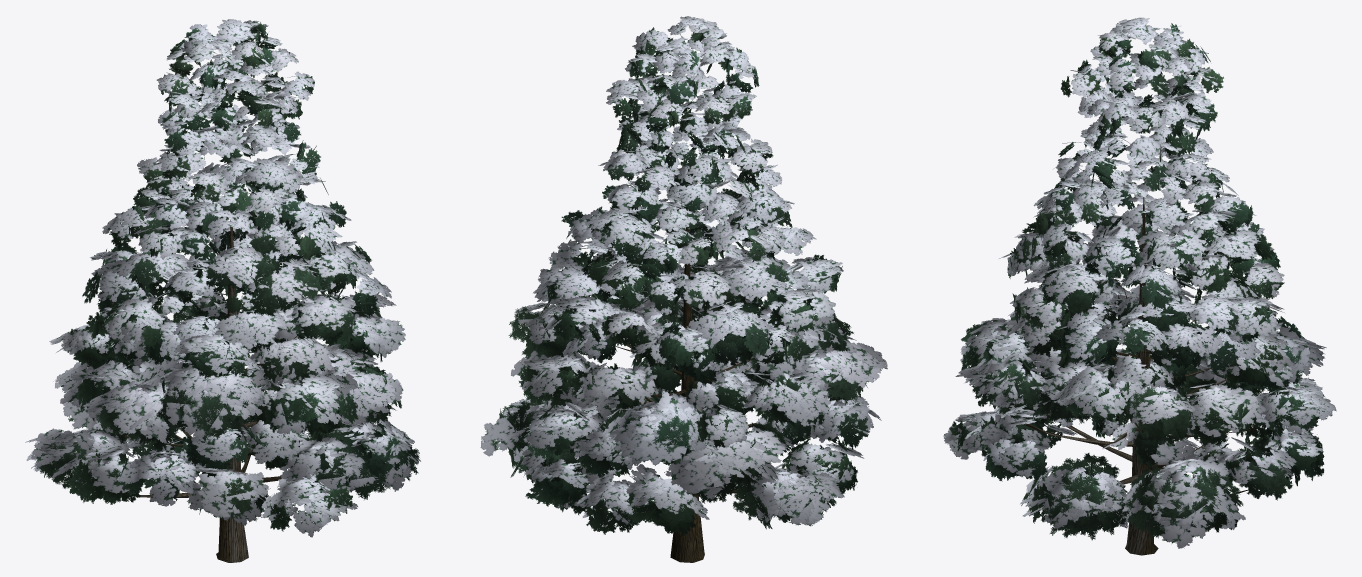
The model's file is mm6_deco_snotre01.glb.
The picture shows the model from 3 angles, left to right: view 1: azimuth 30°, elevation 25°; view 2: azimuth 150°, elevation 25°; view 3: azimuth 270°, elevation 25°; orthographic projection.
Visible parts, largest first — view 1: Tree; view 2: Tree; view 3: Tree.
Boxes of the visible parts, left/top/right/bottom form: Tree: left=25, top=19, right=420, bottom=562; Tree: left=480, top=16, right=887, bottom=562; Tree: left=943, top=17, right=1336, bottom=555.
Bounding box in the file's own units: 2.15 × 2.96 × 2.11.
Materials: 2 (2 with a texture image).
